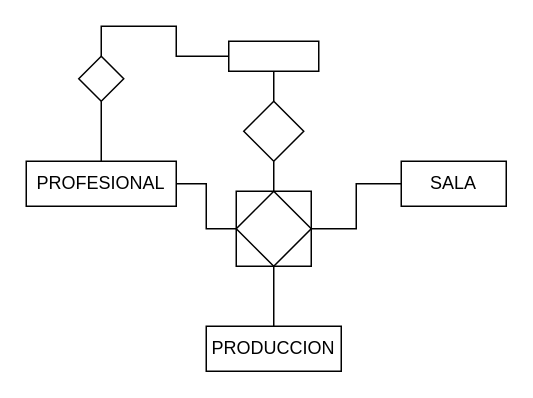
The diagram is 533 pixels wide and 398 high, and some of its shapes have lost their labels. The shapes that lost their labels are listed below. From the top down, each one's box as (x1, y1, x2, y2) in pixels, then its label:
(227, 40, 319, 71): CANCION
(235, 190, 311, 266): sesion
